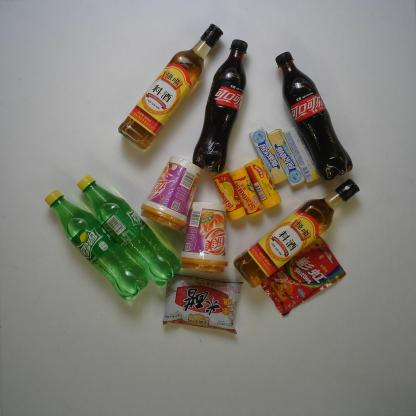Candy: (260, 236, 347, 318), (282, 126, 322, 184), (249, 127, 287, 185), (267, 128, 305, 186), (244, 158, 282, 210), (211, 170, 246, 222), (229, 167, 263, 217)
Drink: (77, 174, 182, 286), (44, 190, 148, 301), (275, 51, 353, 181), (192, 39, 248, 173)
Instant Drink: (140, 156, 202, 232), (179, 201, 229, 273)
Seasoner: (233, 178, 360, 288), (118, 23, 224, 150), (162, 274, 243, 334)
